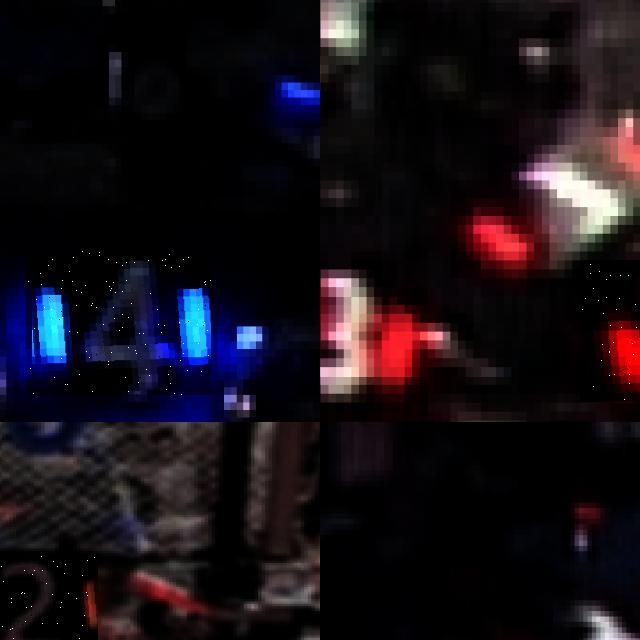B4: (26, 250, 211, 395)
R2: (0, 555, 98, 640)
R3: (320, 260, 412, 411), (579, 260, 640, 402)
